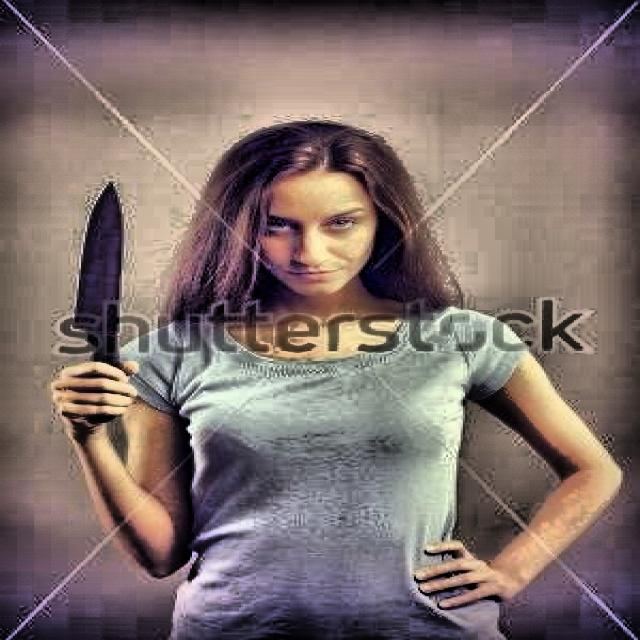knife: (72, 180, 123, 422)
